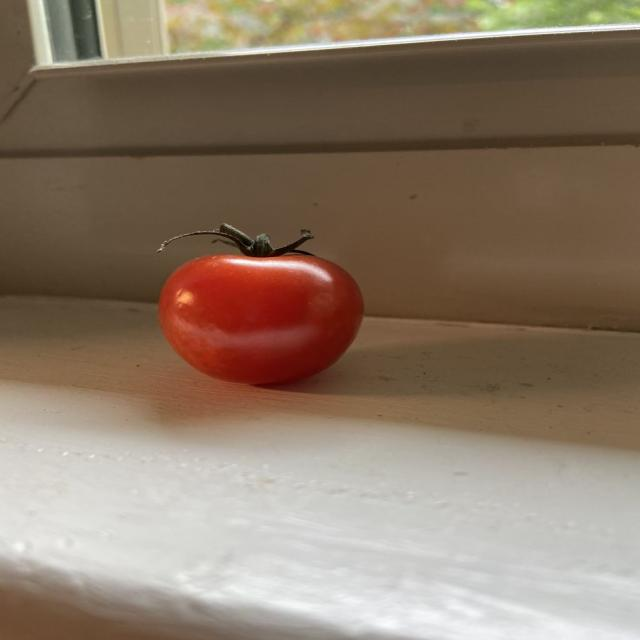tomato: (160, 235, 362, 384)
